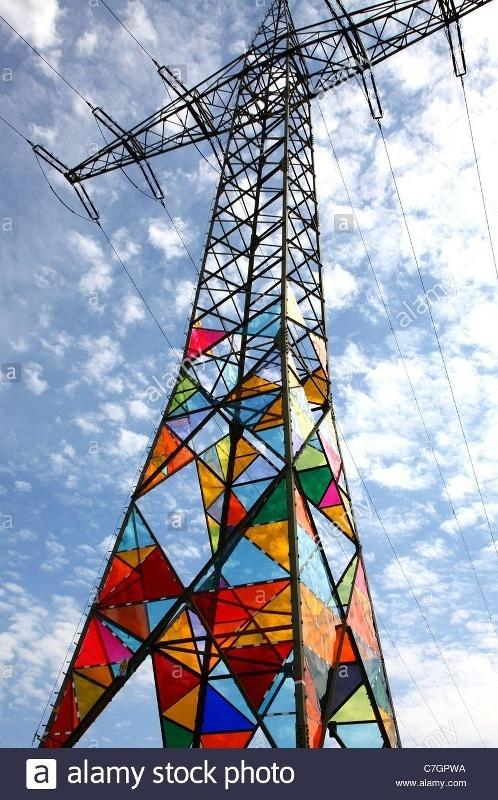power_tower: (38, 7, 491, 743)
